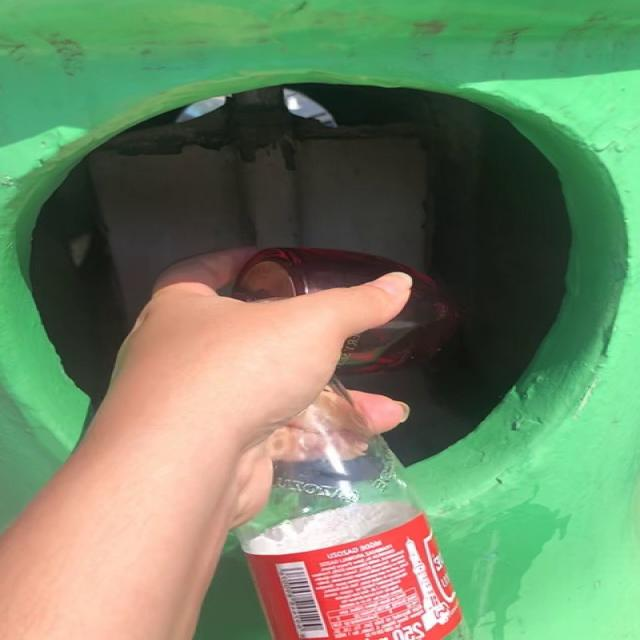glass: (236, 379, 468, 640), (236, 380, 461, 640), (233, 248, 457, 372), (233, 249, 411, 300), (344, 293, 439, 354)
